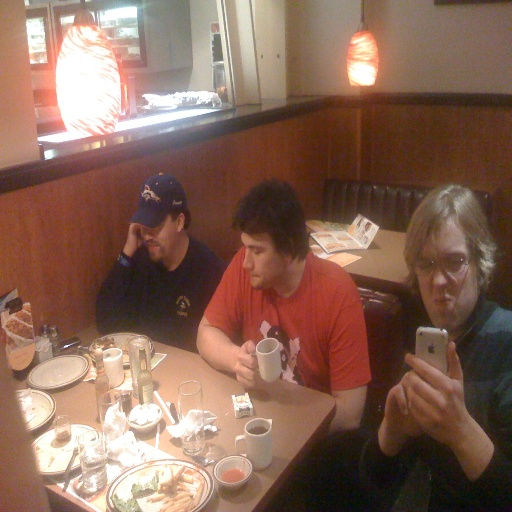hand: (404, 340, 467, 444), (382, 370, 426, 437), (232, 338, 258, 389), (126, 222, 145, 252)
